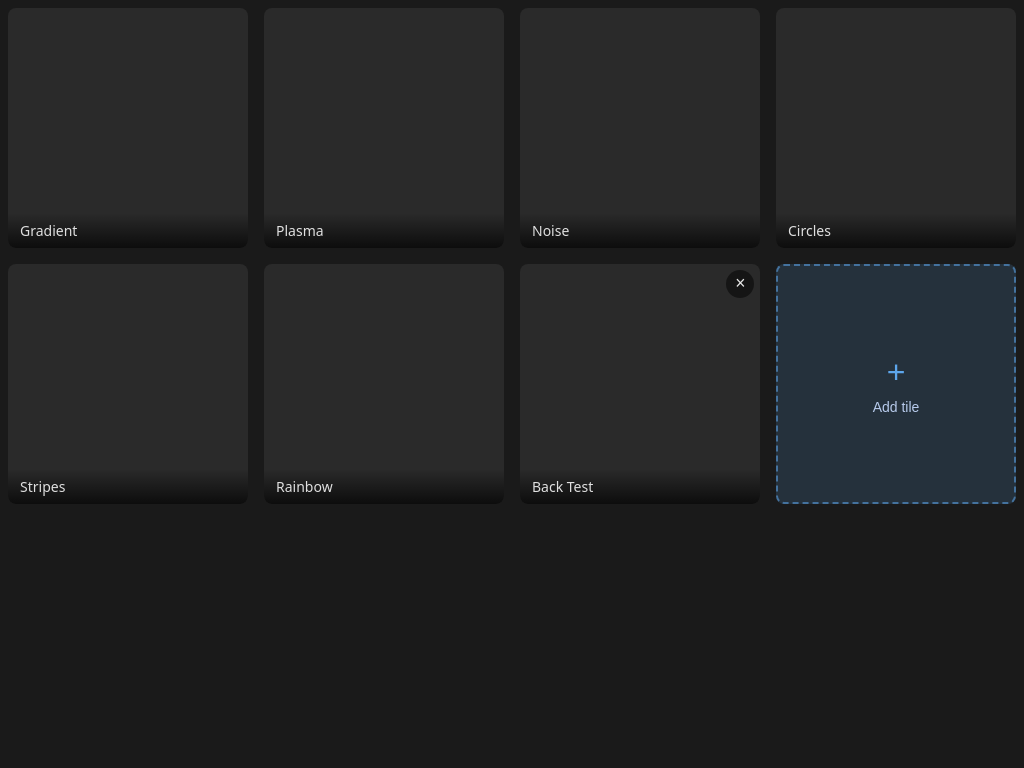
Scenario: main.tsx › close button in fullscreen navigates back to grid
The width and height of the screenshot is (1024, 768).
Simulate clicking a tile to navigate to fullscreen
Click the text "Back Test" at (640, 486), box [520,469,760,504]
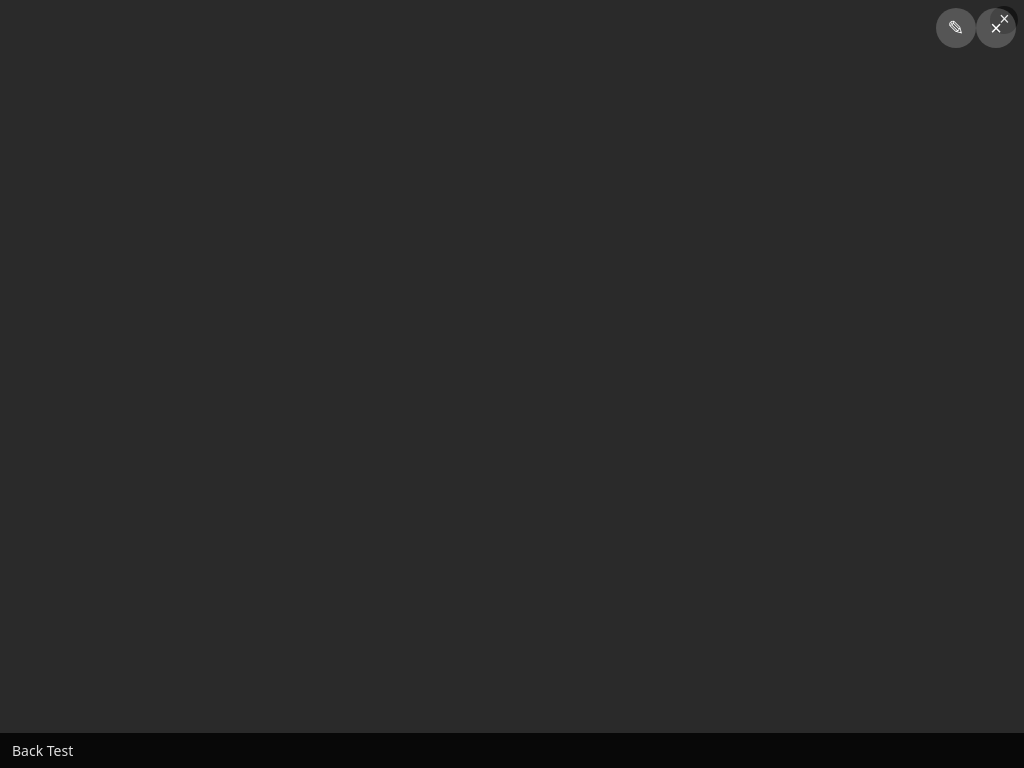
Check: the element with test id "fullscreen-view" is shown
Close button navigates to grid
Click the button named "Close" at (996, 28), box [976,8,1016,48]
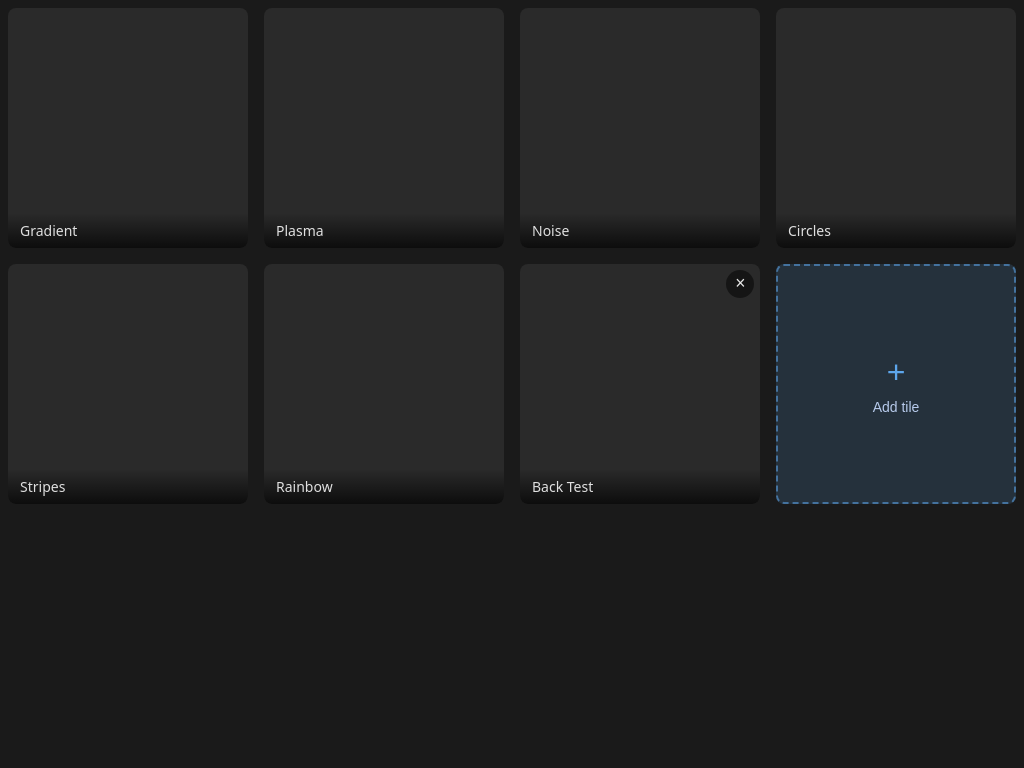
Check: the element with test id "tile-grid" is shown
